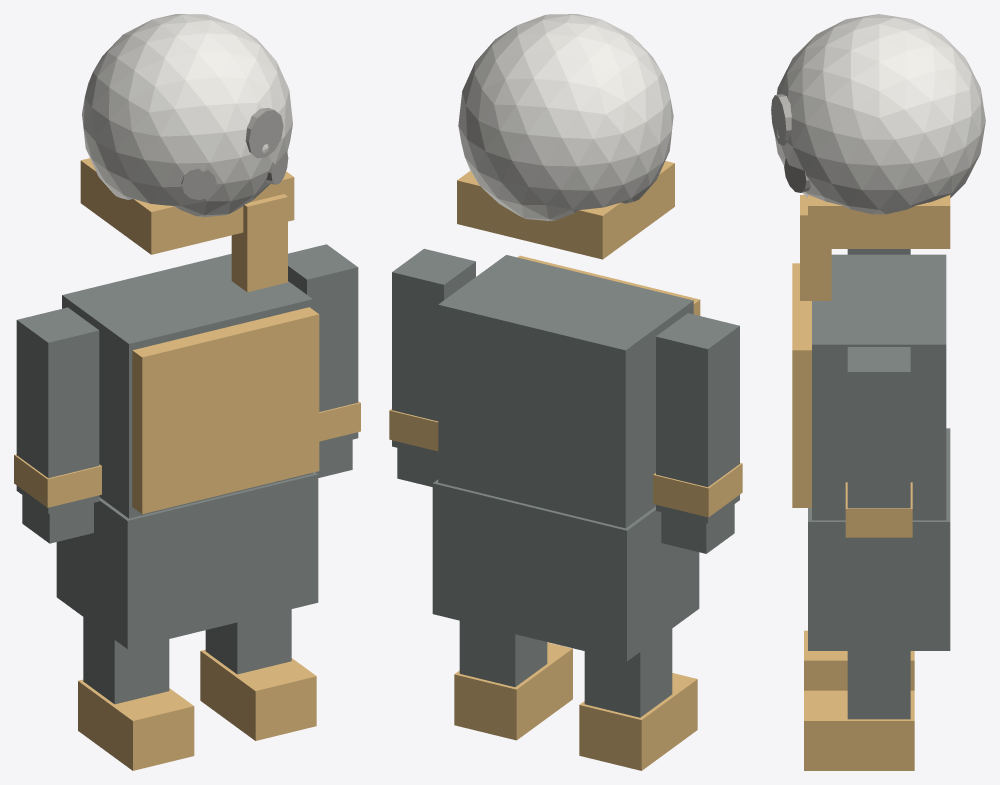
File: moon-head.glb
3 renders of one model, left to right at view 1: azimuth 30°, elevation 25°; view 2: azimuth 150°, elevation 25°; view 3: azimuth 270°, elevation 25°, orthographic.
Visible parts, largest first — view 1: CoatSkirt, MoonHead, CoatCollar, CoatTorso, Arm_L_Sleeve, Arm_R_Sleeve, Boot_L, Boot_R, Scarf, Trouser_L, ScarfTail, Trouser_R (+6 smaller); view 2: CoatTorso, MoonHead, CoatSkirt, Arm_L_Sleeve, Arm_R_Sleeve, Scarf, Boot_R, Boot_L, Trouser_L, Trouser_R, Cuff_L, Glove_L (+3 smaller); view 3: MoonHead, CoatTorso, CoatSkirt, Arm_R_Sleeve, Boot_R, Scarf, CoatCollar, Trouser_R, Cuff_R, ScarfTail, Boot_L, Glove_R (+3 smaller).
Part boxes in pixels (bbox=[...]): CoatSkirt: bbox=[56, 472, 318, 648]; MoonHead: bbox=[82, 14, 292, 217]; CoatCollar: bbox=[132, 307, 319, 514]; CoatTorso: bbox=[62, 254, 312, 518]; Arm_L_Sleeve: bbox=[16, 307, 99, 513]; Arm_R_Sleeve: bbox=[288, 244, 358, 447]; Boot_L: bbox=[78, 679, 194, 770]; Boot_R: bbox=[200, 649, 316, 740]; Scarf: bbox=[80, 158, 294, 254]; Trouser_L: bbox=[83, 617, 169, 704]; ScarfTail: bbox=[231, 194, 287, 292]; Trouser_R: bbox=[205, 609, 291, 674]; CoatTorso: bbox=[438, 255, 693, 528]; MoonHead: bbox=[458, 14, 673, 220]; CoatSkirt: bbox=[432, 479, 699, 661]; Arm_L_Sleeve: bbox=[656, 313, 739, 523]; Arm_R_Sleeve: bbox=[392, 248, 475, 457]; Scarf: bbox=[457, 161, 674, 259]; Boot_R: bbox=[454, 642, 572, 740]; Boot_L: bbox=[579, 673, 697, 770]; Trouser_L: bbox=[584, 629, 672, 717]; Trouser_R: bbox=[459, 621, 547, 686]; Cuff_L: bbox=[653, 463, 742, 517]; Glove_L: bbox=[661, 504, 734, 553]; MoonHead: bbox=[775, 14, 985, 214]; CoatTorso: bbox=[812, 254, 946, 520]; CoatSkirt: bbox=[808, 428, 950, 650]; Arm_R_Sleeve: bbox=[847, 347, 910, 543]; Boot_R: bbox=[804, 690, 914, 770]; Scarf: bbox=[808, 195, 950, 248]; CoatCollar: bbox=[792, 263, 811, 507]; Trouser_R: bbox=[847, 651, 910, 719]; Cuff_R: bbox=[845, 482, 912, 537]; ScarfTail: bbox=[800, 195, 831, 300]; Boot_L: bbox=[804, 630, 914, 690]; Glove_R: bbox=[851, 544, 906, 574].
Bounding box in the file's own units: 0.92 × 1.96 × 0.5435.
